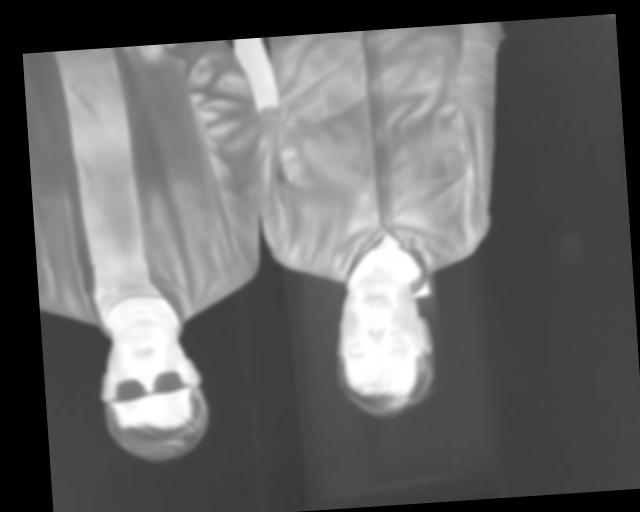face: (94, 313, 210, 466), (329, 269, 439, 421)
